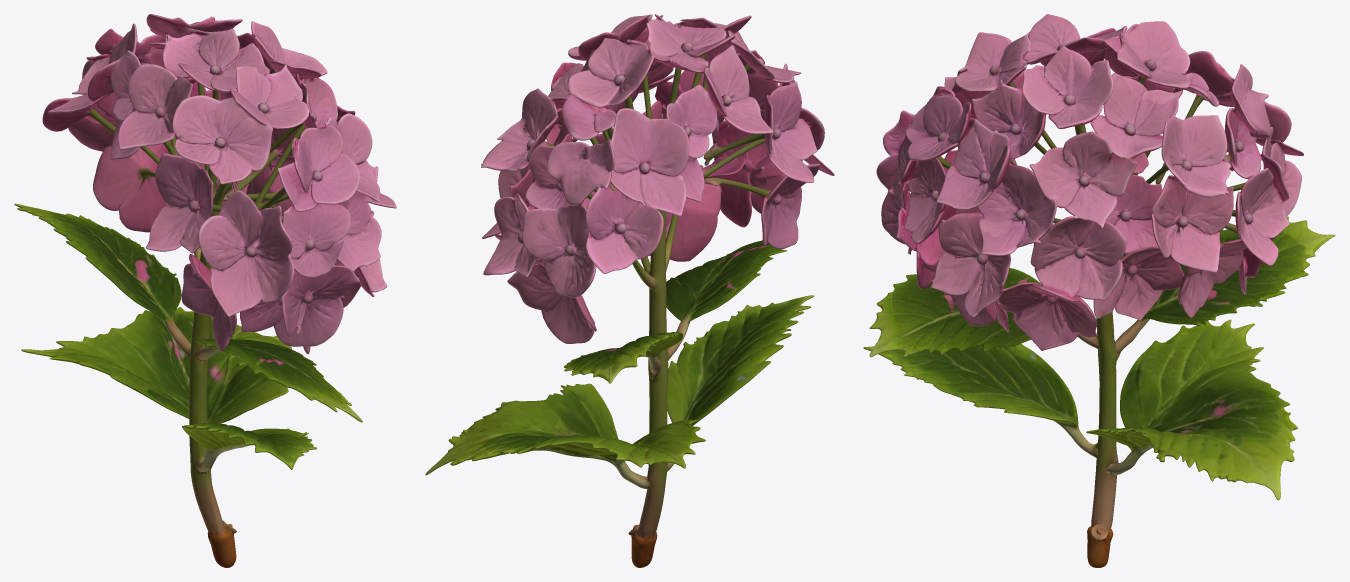
File: pink hydrangea 1.glb
3 views of the same model, side by side, from view 1: azimuth 30°, elevation 25°; view 2: azimuth 150°, elevation 25°; view 3: azimuth 270°, elevation 25° (orthographic). The views are drawn at different scales.
Parts seen in each view (by area): view 1: tripo_node_6f300eea-431b-4362-8848-c907f17eaad5; view 2: tripo_node_6f300eea-431b-4362-8848-c907f17eaad5; view 3: tripo_node_6f300eea-431b-4362-8848-c907f17eaad5.
Boxes of the visible parts, <box> form: tripo_node_6f300eea-431b-4362-8848-c907f17eaad5: <box>14,14,396,567</box>; tripo_node_6f300eea-431b-4362-8848-c907f17eaad5: <box>425,14,834,567</box>; tripo_node_6f300eea-431b-4362-8848-c907f17eaad5: <box>863,14,1335,567</box>.
Size of the model in its own units: 0.4777 by 0.9787 by 0.7907.
Materials: 1 (1 with a texture image).
